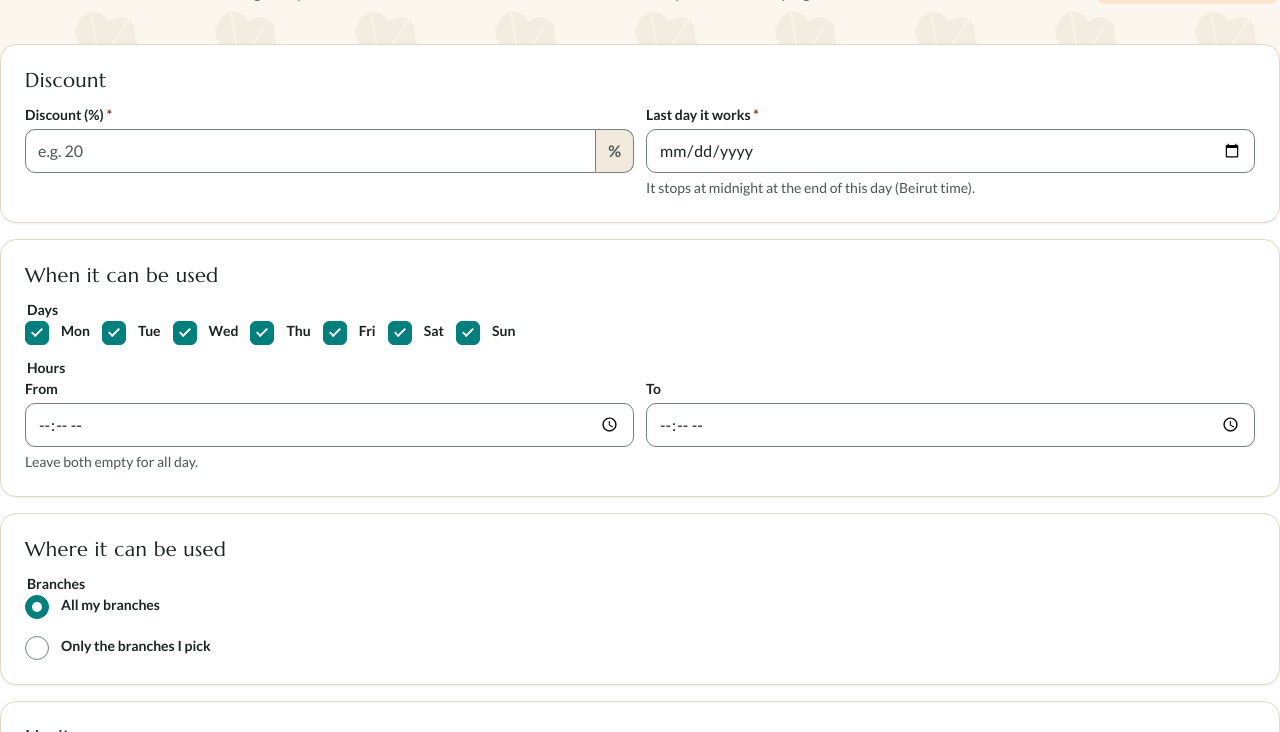
Test case: starts with every day, all day, all branches and one use per person
This screenshot has width=1280, height=732.
Step 1. Type "15" into the field labelled "Discount (%) *" → [311, 151], box [25,129,596,173]
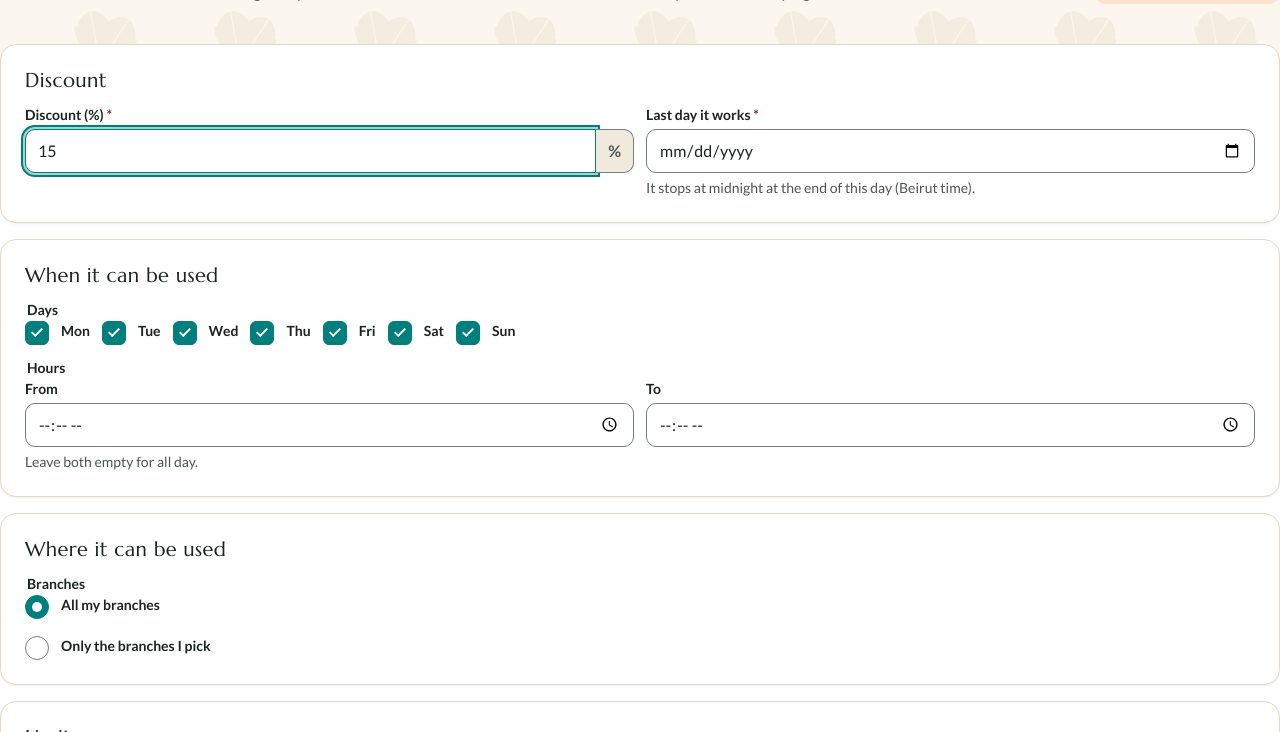
Expected: the checkbox labelled "Mon" is checked, [25,320,90,345]
Expected: the checkbox labelled "Tue" is checked, [102,320,161,345]
Step 2. Type "2030-02-01" into the date field labelled "Last day it works *" → [950, 151], box [646,129,1255,173]
(page scrolled)
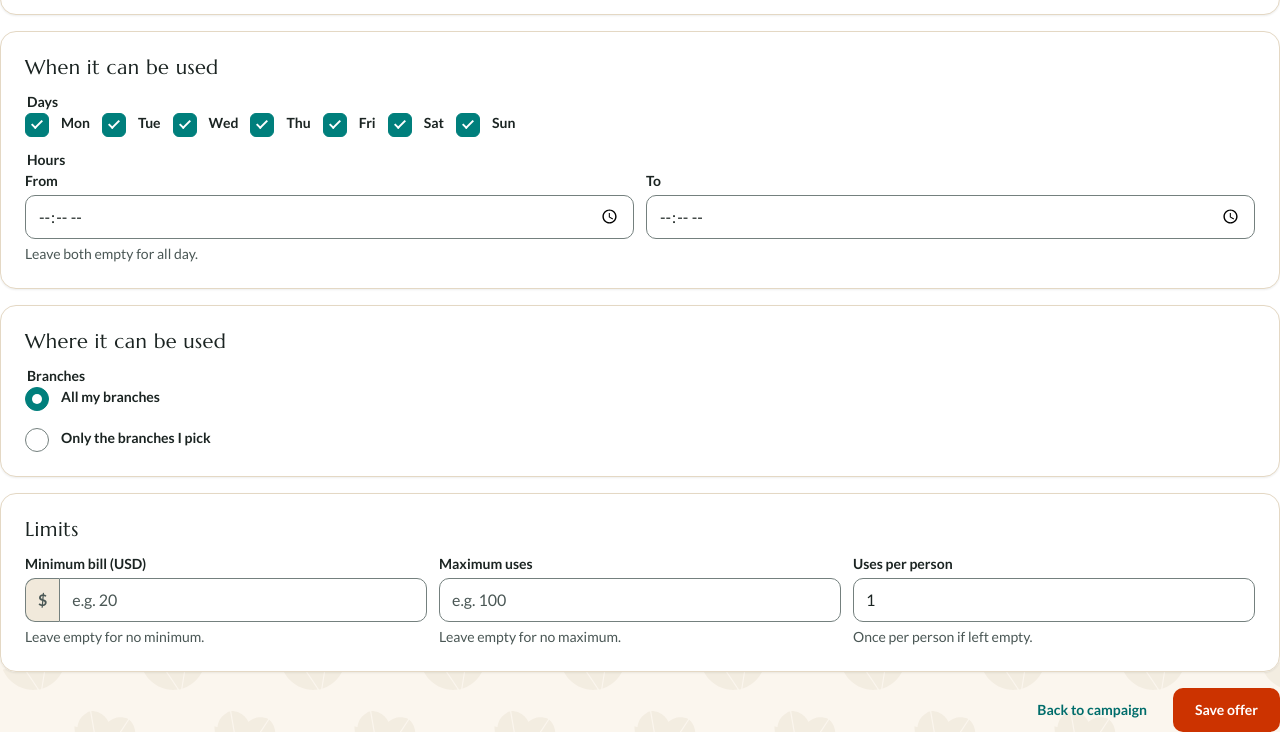
Step 3. Click the button "Save offer" → [1226, 710], box [1173,688,1279,731]
(page scrolled)
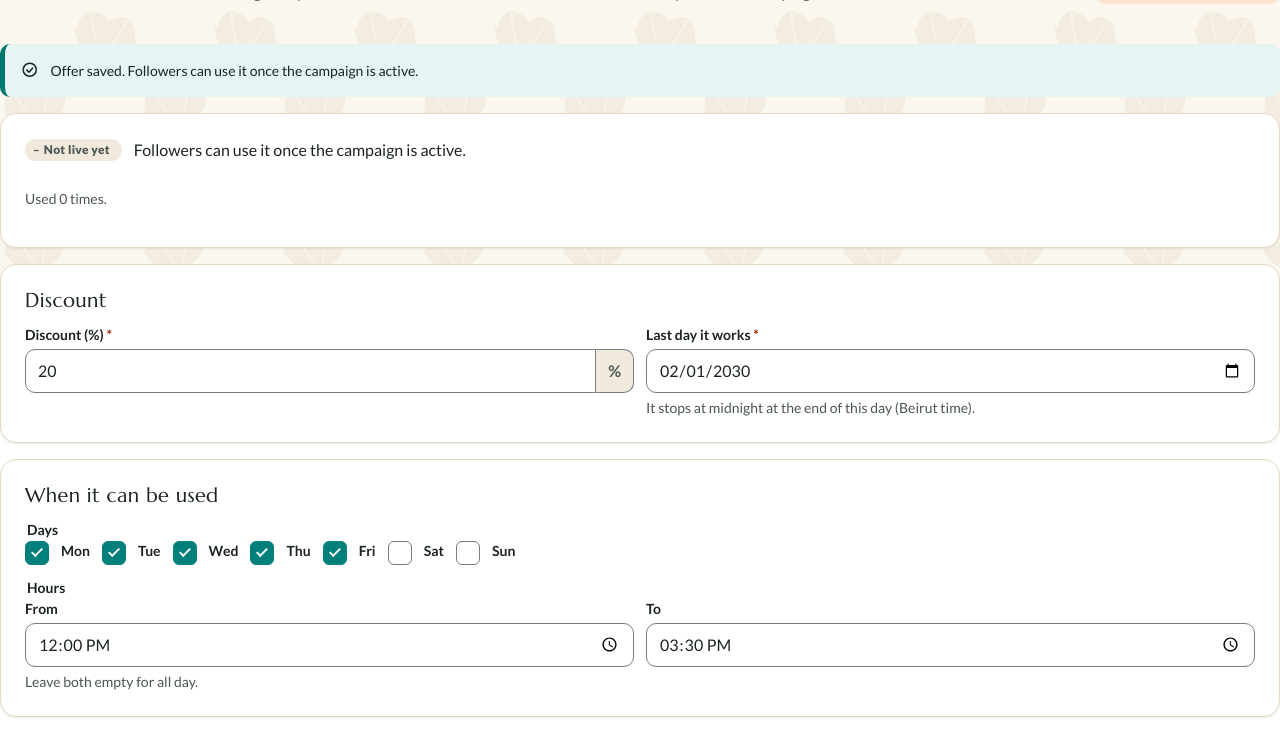
Now the message "Offer saved. Followers can use it once the campaign is active." is shown, box [0,44,1279,97]
